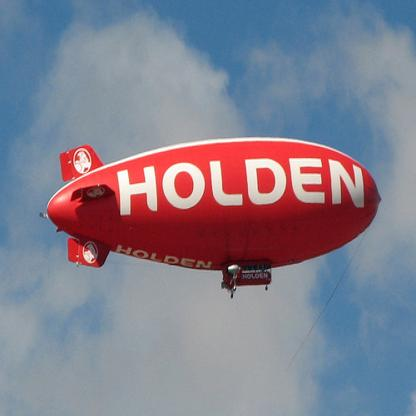Airship: (37, 137, 387, 300)
